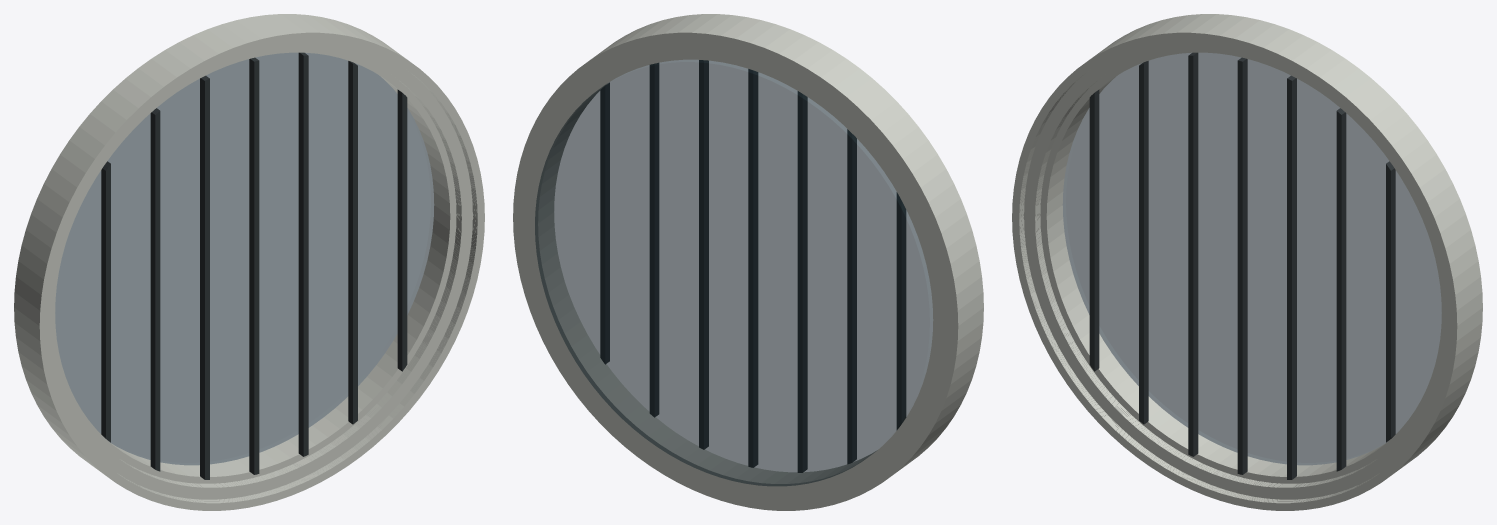
The model's file is clasico_circle_con_reja.glb.
The picture shows the model from 3 angles, left to right: view 1: azimuth 30°, elevation 25°; view 2: azimuth 150°, elevation 25°; view 3: azimuth 330°, elevation 25°; orthographic projection.
Visible parts, largest first — view 1: window_glass#0001, window_grille#0001, window_reveal#0001, window_profile#0020, window_profile#0009, window_profile#0010, window_profile#0017, window_profile#0011, window_profile#0018, window_profile#0019, window_profile#0001, window_profile#0012 (+11 smaller); view 2: window_glass#0001, window_reveal#0001, window_grille#0001, window_profile#0020, window_profile#0001; view 3: window_glass#0001, window_grille#0001, window_reveal#0001, window_profile#0020, window_profile#0009, window_profile#0010, window_profile#0017, window_profile#0011, window_profile#0018, window_profile#0019, window_profile#0001, window_profile#0012 (+11 smaller).
Part boxes in pixels (left/top/right/bottom): window_glass#0001: left=55, top=52, right=434, bottom=465; window_grille#0001: left=101, top=52, right=407, bottom=479; window_reveal#0001: left=14, top=14, right=448, bottom=475; window_profile#0020: left=27, top=24, right=484, bottom=510; window_profile#0009: left=51, top=46, right=464, bottom=490; window_profile#0010: left=48, top=43, right=467, bottom=493; window_profile#0017: left=45, top=38, right=479, bottom=504; window_profile#0011: left=47, top=40, right=470, bottom=496; window_profile#0018: left=43, top=36, right=481, bottom=506; window_profile#0019: left=41, top=34, right=482, bottom=508; window_profile#0001: left=53, top=51, right=451, bottom=478; window_profile#0012: left=58, top=40, right=472, bottom=499; window_glass#0001: left=535, top=59, right=933, bottom=486; window_reveal#0001: left=513, top=22, right=972, bottom=510; window_grille#0001: left=600, top=60, right=905, bottom=472; window_profile#0020: left=603, top=14, right=983, bottom=462; window_profile#0001: left=551, top=89, right=875, bottom=474; window_glass#0001: left=1062, top=52, right=1441, bottom=465; window_grille#0001: left=1089, top=52, right=1395, bottom=479; window_reveal#0001: left=1048, top=14, right=1482, bottom=475; window_profile#0020: left=1012, top=23, right=1469, bottom=510; window_profile#0009: left=1032, top=46, right=1445, bottom=490; window_profile#0010: left=1029, top=43, right=1448, bottom=493; window_profile#0017: left=1017, top=38, right=1451, bottom=504; window_profile#0011: left=1026, top=40, right=1449, bottom=496; window_profile#0018: left=1015, top=36, right=1453, bottom=506; window_profile#0019: left=1014, top=34, right=1455, bottom=508; window_profile#0001: left=1045, top=51, right=1443, bottom=478; window_profile#0012: left=1024, top=40, right=1438, bottom=499.
Size of the model in its own units: 1.6 by 1.6 by 0.18.
